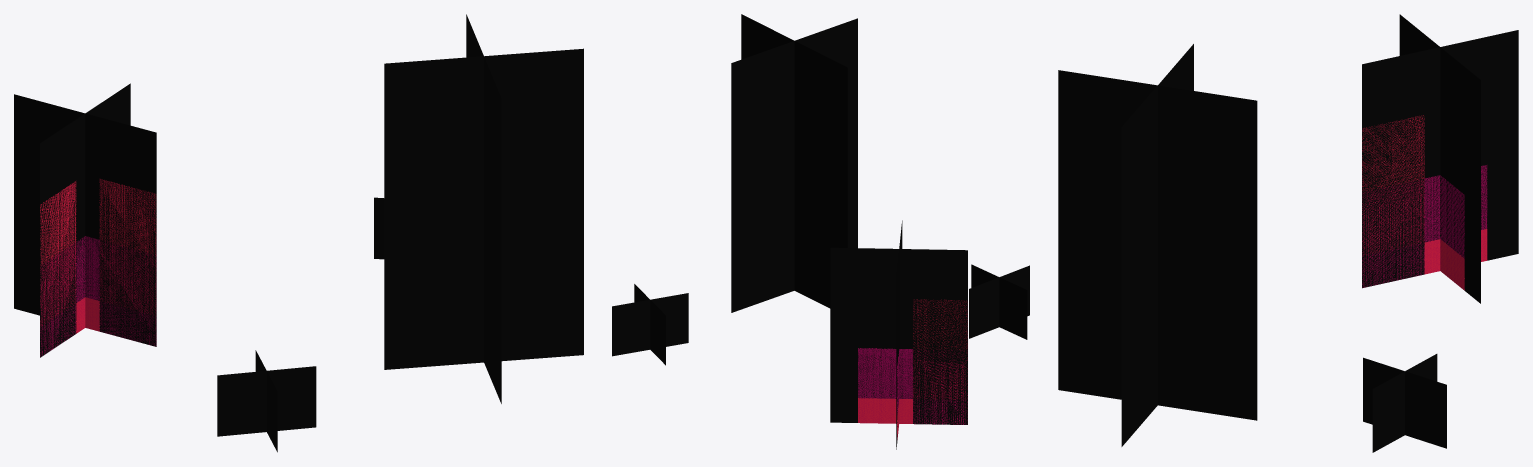
File: crimson_crest_stage1.obj
The picture shows the model from 3 angles, left to right: view 1: azimuth 30°, elevation 25°; view 2: azimuth 150°, elevation 25°; view 3: azimuth 270°, elevation 25°; orthographic projection. The views are drawn at different scales.
Parts seen in each view (by area): view 1: cube_1, cube_3, cube_4, cube_2, cube_7, cube_8, cube_5; view 2: cube_4, cube_2, cube_1, cube_6, cube_8, cube_7, cube_5, cube_3; view 3: cube_2, cube_3, cube_1, cube_4, cube_6, cube_5.
Part boxes in pixels (x1,y1,x2,y2): cube_1: (384,48,583,369); cube_3: (14,94,156,346); cube_4: (40,83,130,357); cube_2: (466,14,501,403); cube_7: (217,366,316,436); cube_8: (255,350,277,452); cube_5: (374,197,384,259); cube_4: (830,247,967,424); cube_2: (731,18,857,312); cube_1: (741,14,847,308); cube_6: (612,293,688,356); cube_8: (969,265,1029,338); cube_7: (971,264,1027,339); cube_5: (634,284,665,365); cube_3: (896,220,902,449); cube_2: (1058,70,1257,420); cube_3: (1362,30,1518,288); cube_1: (1121,44,1193,446); cube_4: (1399,14,1480,303); cube_6: (1363,357,1446,448); cube_5: (1372,354,1437,452).
Size of the model in its own units: 0.9005 by 0.625 by 0.8148.
